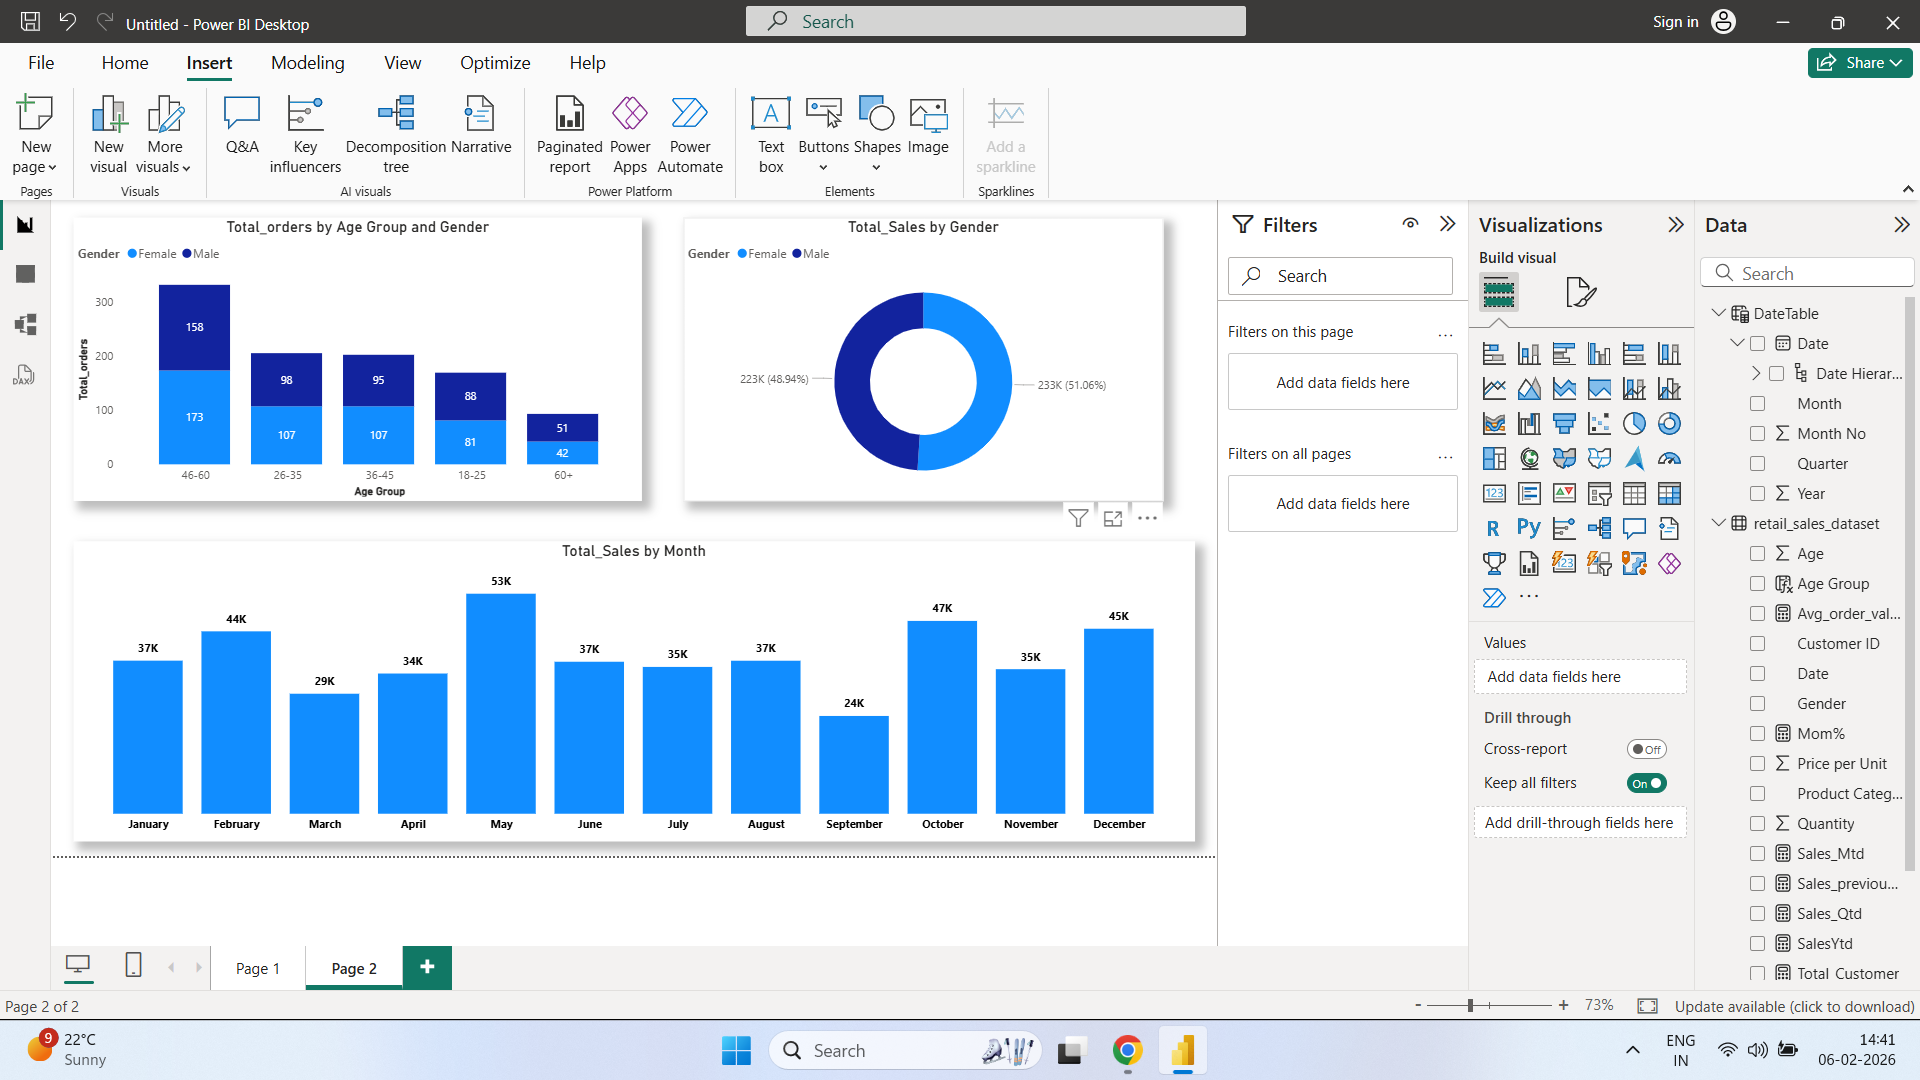

What the dashboard file says about the page in this screenshot:
{"tool":"powerbi","page":{"name":"Page 2","canvas":[1280,720],"ordinal":1},"visuals":[{"type":"donutChart","fields":{"Category":["retail_sales_dataset.Gender"],"Y":["retail_sales_dataset.Total_Sales"]},"box":[694.3,19.2,526.9,311.5],"z":0},{"type":"columnChart","fields":{"Category":["DateTable.Date.Variation.Date Hierarchy.Month"],"Y":["retail_sales_dataset.Total_Sales"]},"box":[24.7,374.6,1230.9,329.3],"z":1000},{"type":"columnChart","fields":{"Y":["retail_sales_dataset.Total_orders"],"Category":["retail_sales_dataset.Age Group"],"Series":["retail_sales_dataset.Gender"]},"box":[24.7,19.2,624.4,311.5],"z":1001}]}

Visuals, with their boxes on the page's 1280x720 design canvas (x1, y1, x2, y2). These are canvas units, not pixel positions in the 1920x1080 screenshot, which may show the page scaled, cropped or inside an application window:
donutChart - retail_sales_dataset.Gender x retail_sales_dataset.Total_Sales: 694 19 1221 331
columnChart - DateTable.Date.Variation.Date Hierarchy.Month x retail_sales_dataset.Total_Sales: 25 375 1256 704
columnChart - retail_sales_dataset.Total_orders x retail_sales_dataset.Age Group: 25 19 649 331
